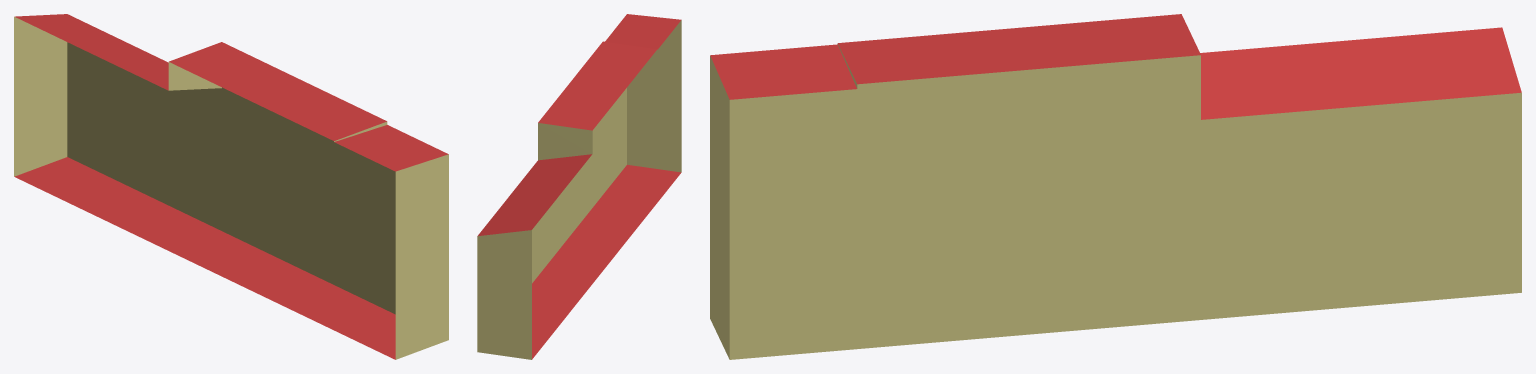
The picture shows the model from 3 angles, left to right: view 1: azimuth 30°, elevation 25°; view 2: azimuth 150°, elevation 25°; view 3: azimuth 270°, elevation 25°; orthographic projection. The views are drawn at different scales.
Bounding box in the file's own units: 9.53 × 30.16 × 10.86.
